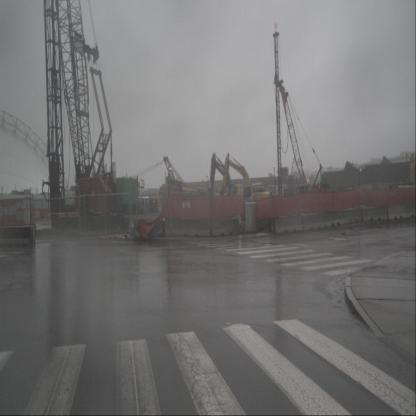movable_object-barrier: (171, 215, 211, 238), (0, 225, 36, 248), (134, 218, 172, 238), (271, 213, 304, 235), (208, 216, 240, 237), (299, 209, 326, 233), (359, 204, 389, 224), (384, 204, 408, 224), (324, 208, 344, 230), (339, 208, 362, 224), (402, 202, 416, 222)
